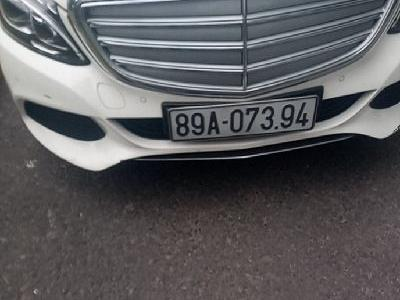lisence: (166, 94, 319, 141)
